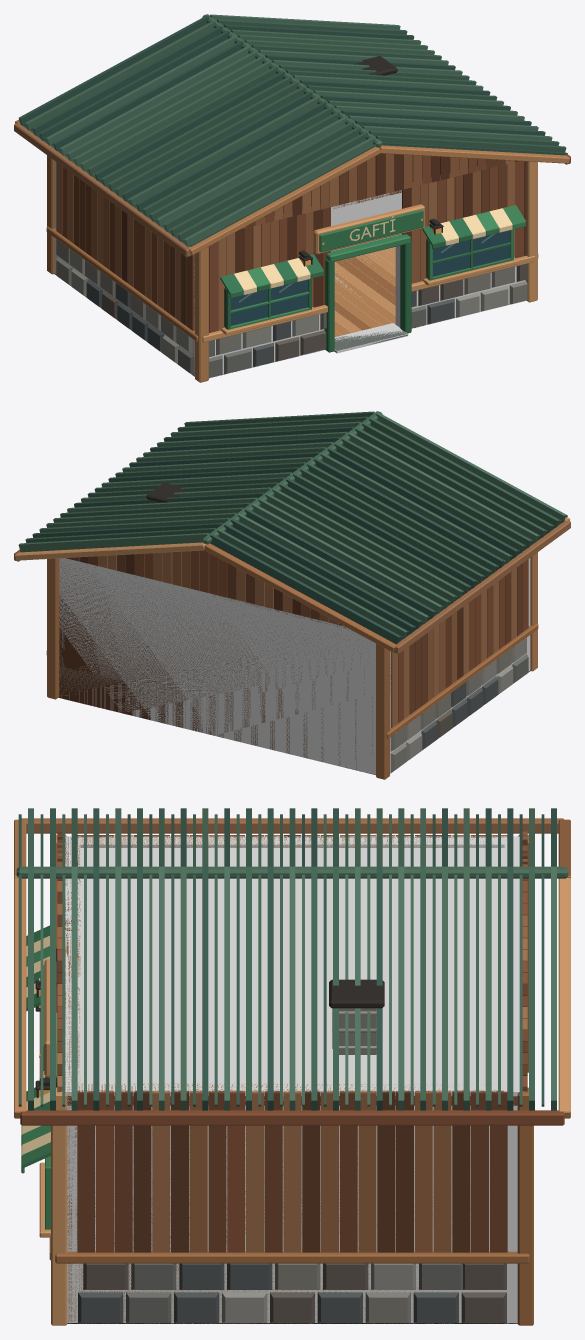
The model's file is shop_building.glb.
3 renders of one model, top to bottom at view 1: azimuth 30°, elevation 25°; view 2: azimuth 150°, elevation 25°; view 3: azimuth 270°, elevation 25°, orthographic. The views are drawn at different scales.
Visible parts, largest first — view 1: Roof, Cladding, Stonework, Windows, Frame, Gables, Fascia, Floorboards, Canopy, Shell-col, Doorframe, Sign (+4 smaller); view 2: Roof, Shell-col, Walls, Cladding, Gables, Fascia, Frame, Stonework, Roof seams, Chimney; view 3: Cladding, Ceiling-col, Roof, Roof seams, Stonework, Shell-col, Fascia, Frame, Walls, Gables, Chimney, Canopy (+2 smaller).
Part boxes in pixels (x1,y1,x2,y2): Roof: (18, 14, 566, 247); Cladding: (56, 160, 526, 332); Stonework: (56, 239, 527, 377); Windows: (221, 229, 518, 335); Frame: (46, 155, 538, 382); Gables: (242, 153, 519, 228); Fascia: (14, 119, 570, 257); Floorboards: (334, 247, 395, 336); Canopy: (220, 205, 525, 298); Shell-col: (54, 161, 525, 377); Doorframe: (324, 234, 411, 352); Sign: (313, 204, 424, 254); Roof: (18, 411, 566, 644); Shell-col: (59, 558, 530, 775); Walls: (58, 563, 390, 769); Cladding: (390, 559, 528, 727); Gables: (65, 550, 342, 625); Fascia: (14, 517, 570, 654); Frame: (46, 552, 538, 779); Stonework: (390, 637, 528, 772); Roof seams: (221, 416, 567, 638); Chimney: (146, 483, 188, 502); Cladding: (57, 835, 507, 1252); Ceiling-col: (67, 848, 517, 1106); Roof: (16, 808, 568, 1110); Roof seams: (18, 814, 544, 1106); Stonework: (78, 1263, 506, 1322); Shell-col: (61, 836, 523, 1323); Fascia: (14, 818, 570, 1125); Frame: (49, 834, 533, 1325); Walls: (65, 836, 492, 1321); Gables: (57, 831, 527, 1091); Chimney: (329, 979, 384, 1054); Canopy: (21, 925, 50, 1173).
Size of the model in its own units: 9.92 by 5.16 by 7.88.
